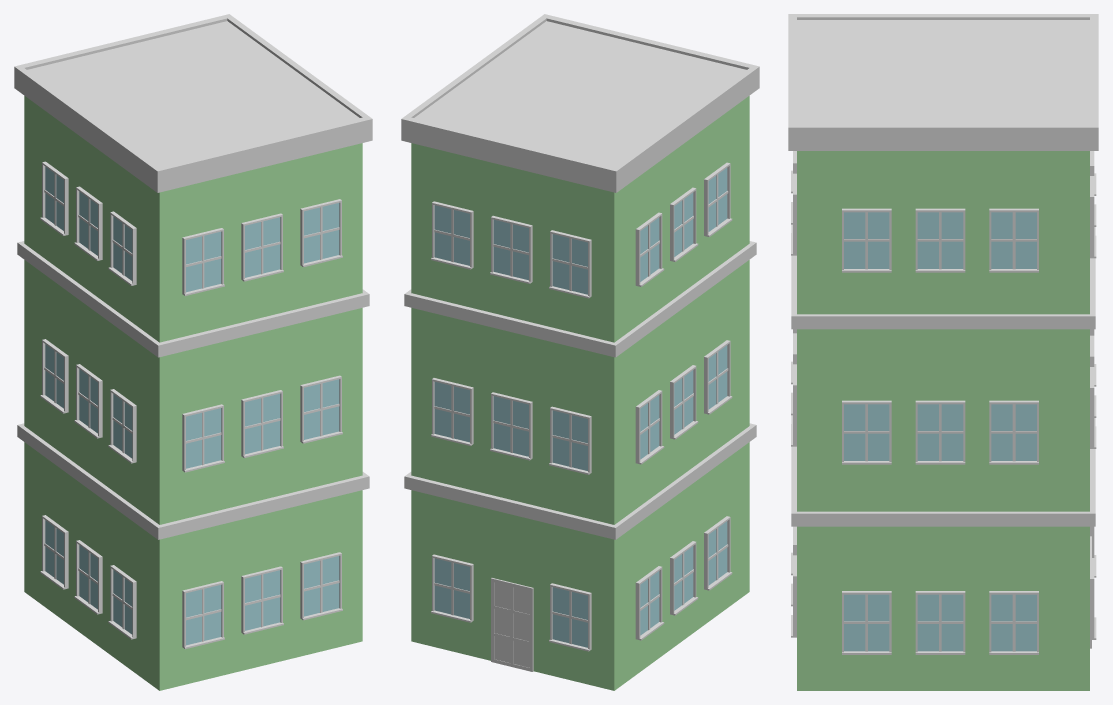
The model's file is Predio_0.fbx.
3 renders of one model, left to right at view 1: azimuth 30°, elevation 25°; view 2: azimuth 150°, elevation 25°; view 3: azimuth 270°, elevation 25°, orthographic. The views are drawn at different scales.
Visible parts, largest first — view 1: Cube.001; view 2: Cube.001; view 3: Cube.001.
Boxes of the visible parts, box(x1,y1,x2,y2) form: Cube.001: box(14, 14, 372, 690); Cube.001: box(401, 14, 759, 690); Cube.001: box(788, 14, 1098, 690).
Size of the model in its own units: 3025 by 7042 by 3492.
